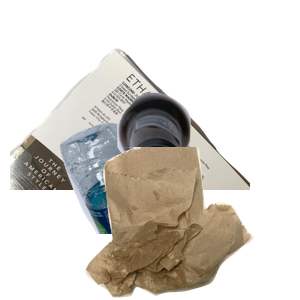glass: (115, 90, 300, 270)
paper: (10, 46, 250, 226)
plastic: (57, 120, 284, 300)
trash: (83, 147, 300, 300)
